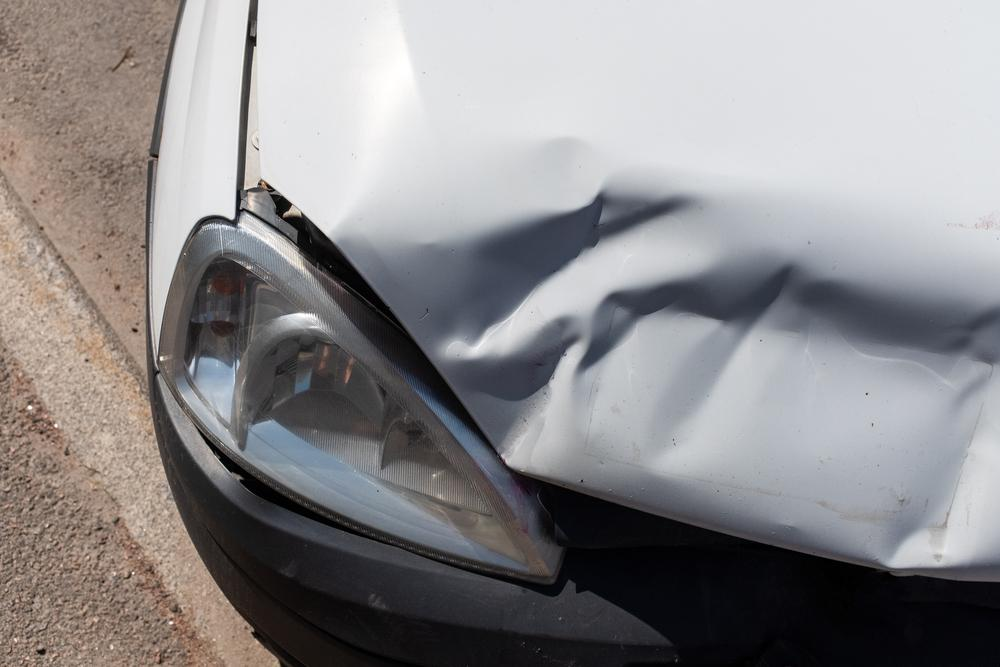dent: (371, 133, 1000, 571)
